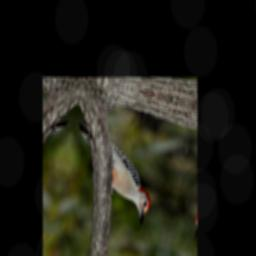Woodpecker: (59, 123, 164, 228)
